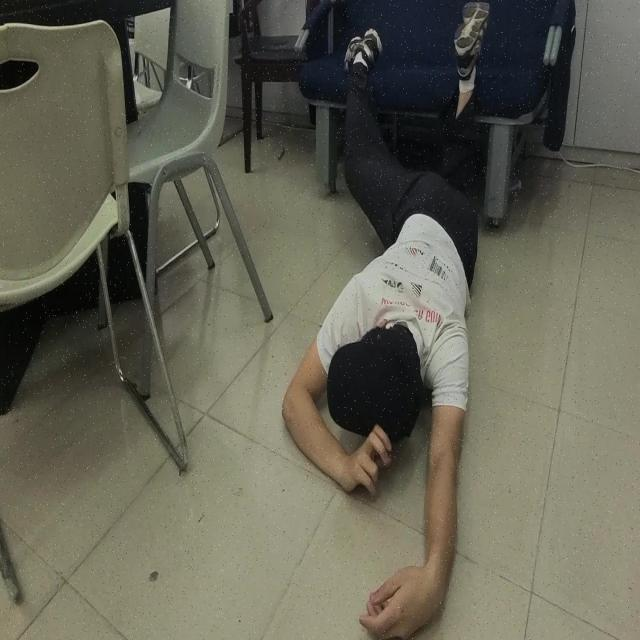fall: (278, 0, 490, 639)
